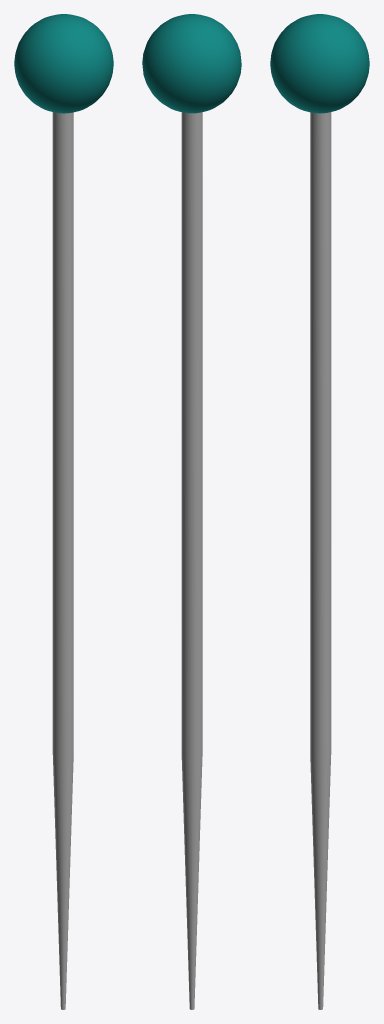
The model's file is pin(1).glb.
3 renders of one model, left to right at view 1: azimuth 90°, elevation 25°; view 2: azimuth 210°, elevation 25°; view 3: azimuth 270°, elevation 25°, orthographic.
Parts seen in each view (by area): view 1: Cylinder003, Sphere001; view 2: Cylinder003, Sphere001; view 3: Cylinder003, Sphere001.
Part boxes in pixels (box(x1,y1,x2,y2)): Cylinder003: box(52, 112, 73, 1009); Sphere001: box(14, 14, 113, 113); Cylinder003: box(181, 112, 202, 1009); Sphere001: box(142, 14, 241, 113); Cylinder003: box(310, 112, 331, 1009); Sphere001: box(270, 14, 369, 113).
Size of the model in its own units: 0.207 by 2.27 by 0.207.
